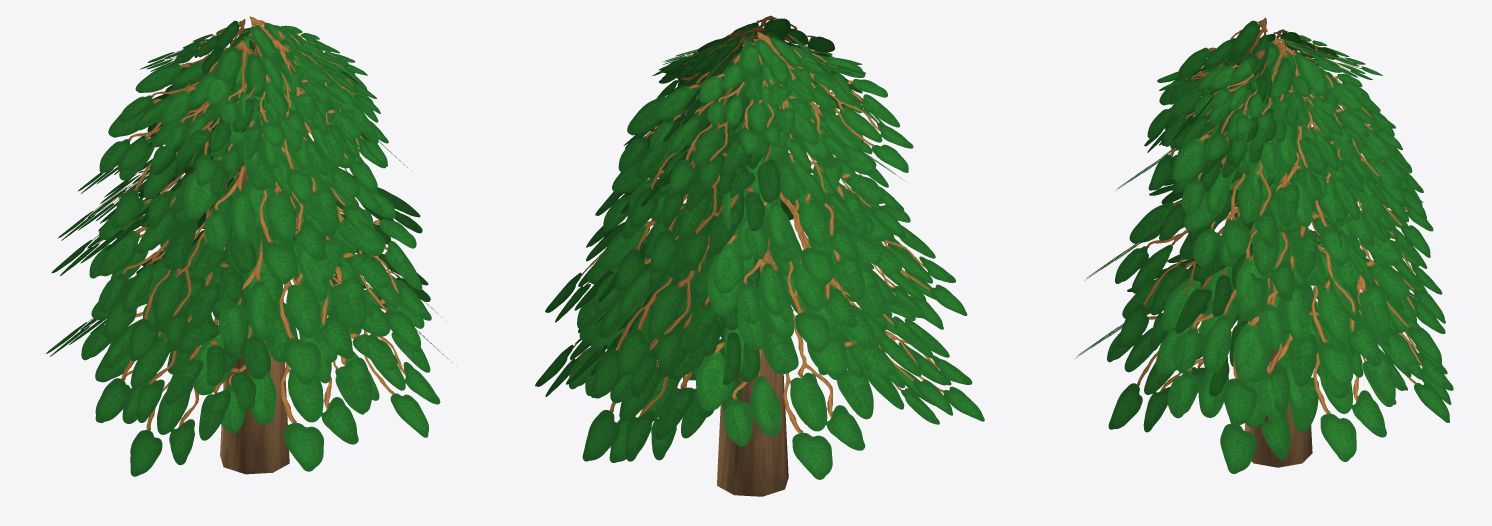
File: Tree.fbx
The picture shows the model from 3 angles, left to right: view 1: azimuth 30°, elevation 25°; view 2: azimuth 150°, elevation 25°; view 3: azimuth 270°, elevation 25°; orthographic projection. The views are drawn at different scales.
Parts seen in each view (by area): view 1: Leaves.002, Leaves.011, Leaves.019, Leaves.020, Leaves.012, Leaves.001, Leaves.010, Leaves.007, Leaves.037, Leaves.035, Leaves.021, Leaves.016 (+17 smaller); view 2: Leaves.004, Leaves.022, Leaves.013, Leaves.008, Leaves, Leaves.014, Leaves.026, Leaves.028, Leaves.010, Leaves.042, Leaves.031, Leaves.005 (+18 smaller); view 3: Leaves.009, Leaves.018, Leaves.006, Leaves.029, Leaves.007, Leaves.015, Leaves.024, Leaves.027, Leaves.032, Leaves.016, Leaves.039, Leaves.041 (+17 smaller).
Boxes of the visible parts, x1,y1,x2,y2 form: Leaves.002: [204, 178, 391, 384]; Leaves.011: [193, 244, 397, 471]; Leaves.019: [98, 188, 256, 361]; Leaves.020: [184, 115, 360, 284]; Leaves.012: [81, 246, 247, 422]; Leaves.001: [95, 292, 270, 476]; Leaves.010: [117, 39, 257, 173]; Leaves.007: [290, 182, 431, 352]; Leaves.037: [161, 40, 288, 186]; Leaves.035: [229, 38, 360, 204]; Leaves.021: [99, 92, 244, 228]; Leaves.016: [291, 230, 440, 437]; Leaves.004: [696, 259, 894, 479]; Leaves.022: [712, 187, 882, 352]; Leaves.013: [722, 122, 884, 286]; Leaves.008: [594, 181, 760, 376]; Leaves: [707, 192, 902, 380]; Leaves.014: [568, 249, 741, 461]; Leaves.026: [629, 99, 780, 273]; Leaves.028: [618, 57, 752, 227]; Leaves.010: [753, 38, 913, 172]; Leaves.042: [699, 39, 814, 153]; Leaves.031: [650, 51, 782, 192]; Leaves.005: [577, 204, 725, 398]; Leaves.009: [1236, 173, 1409, 388]; Leaves.018: [1234, 251, 1415, 461]; Leaves.006: [1161, 221, 1348, 426]; Leaves.029: [1172, 118, 1327, 259]; Leaves.007: [1115, 201, 1254, 350]; Leaves.015: [1155, 279, 1355, 473]; Leaves.024: [1184, 143, 1347, 312]; Leaves.027: [1249, 95, 1398, 266]; Leaves.032: [1243, 42, 1367, 200]; Leaves.016: [1107, 265, 1247, 432]; Leaves.039: [1194, 41, 1298, 162]; Leaves.041: [1211, 38, 1310, 136].
Bounding box in the file's own units: 1050 × 1134 × 1029.
Materials: 2 (2 with a texture image).
